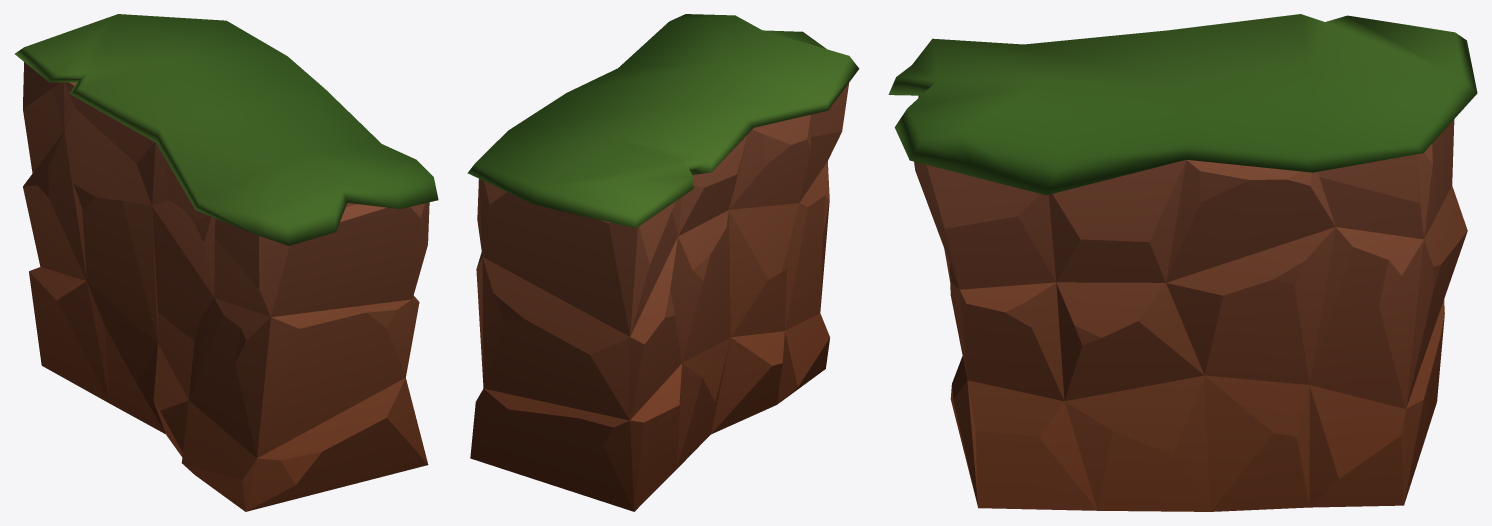
The model's file is rock01.fbx.
The picture shows the model from 3 angles, left to right: view 1: azimuth 30°, elevation 25°; view 2: azimuth 150°, elevation 25°; view 3: azimuth 270°, elevation 25°; orthographic projection. The views are drawn at different scales.
Visible parts, largest first — view 1: ClifBg1.001; view 2: ClifBg1.001; view 3: ClifBg1.001.
Part boxes in pixels (x1,y1,x2,y2): ClifBg1.001: [15, 14, 438, 511]; ClifBg1.001: [467, 14, 859, 511]; ClifBg1.001: [888, 14, 1477, 511].
Bounding box in the file's own units: 461 × 650 × 915.
